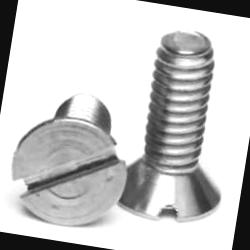screw: (4, 108, 136, 238)
